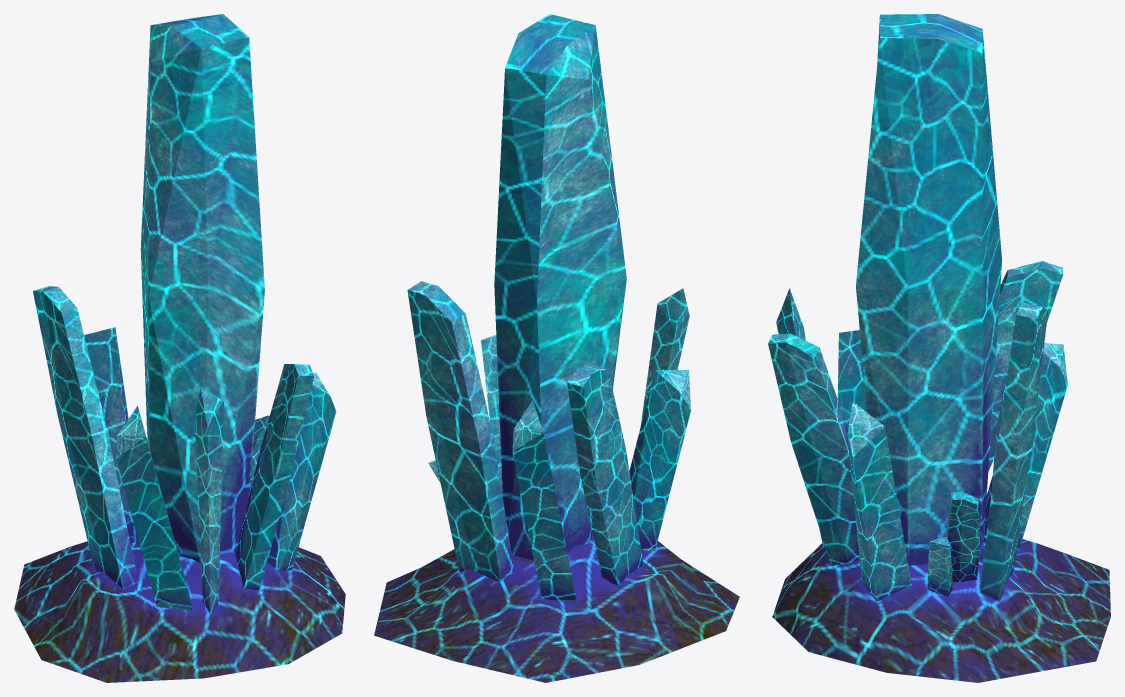
File: kristalBlue.gltf
3 views of the same model, side by side, from view 1: azimuth 30°, elevation 25°; view 2: azimuth 150°, elevation 25°; view 3: azimuth 270°, elevation 25° (orthographic). The views are drawn at different scales.
Visible parts, largest first — view 1: Crystal_type2; view 2: Crystal_type2; view 3: Crystal_type2.
Boxes of the visible parts, left/top/right/bottom form: Crystal_type2: left=14, top=14, right=345, bottom=682; Crystal_type2: left=374, top=14, right=739, bottom=682; Crystal_type2: left=768, top=14, right=1110, bottom=682.
Size of the model in its own units: 1.18 by 2.09 by 1.1.
1 material, 1 textured.
